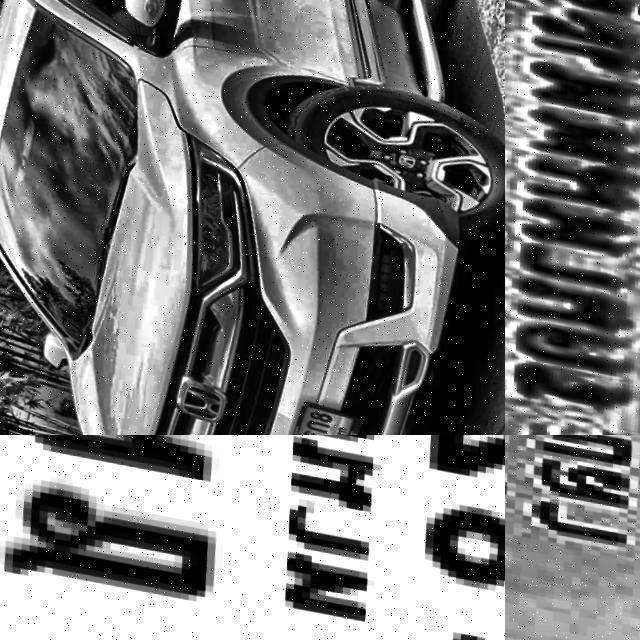license-plate: (0, 435, 505, 640), (505, 0, 640, 435), (505, 435, 640, 640), (267, 386, 368, 435)
